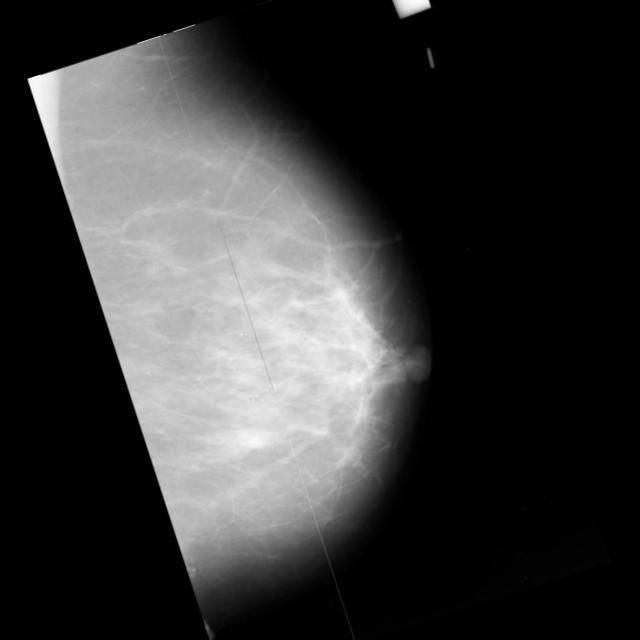MISC: (232, 414, 280, 462)
